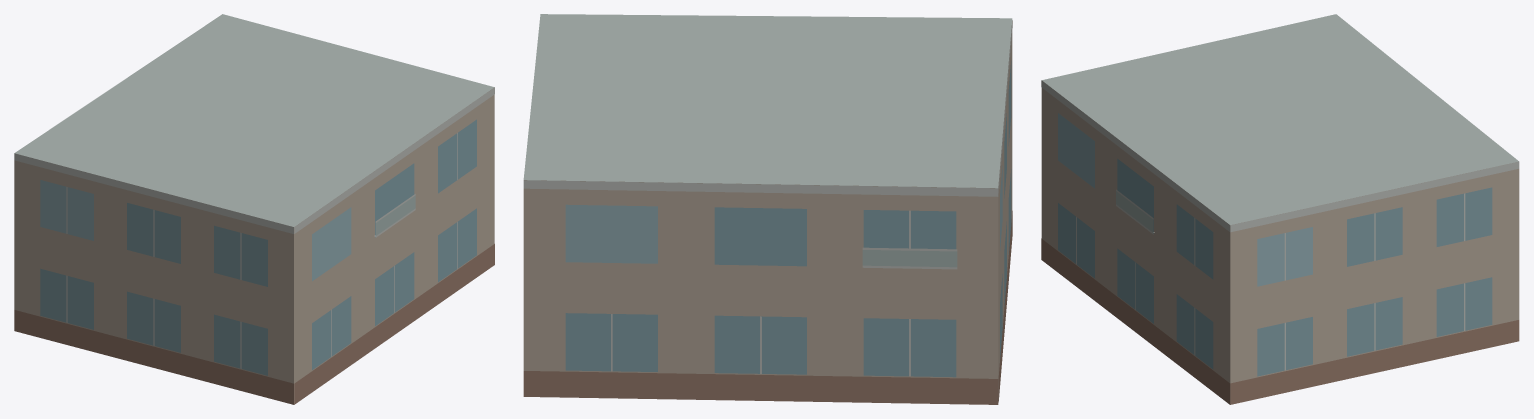
Rendered from survey-upis-32687559.glb.
3 renders of one model, left to right at view 1: azimuth 30°, elevation 25°; view 2: azimuth 150°, elevation 25°; view 3: azimuth 270°, elevation 25°, orthographic. The views are drawn at different scales.
Visible parts, largest first — view 1: survey-upis-32687559.tmp; view 2: survey-upis-32687559.tmp; view 3: survey-upis-32687559.tmp.
Part boxes in pixels (x1,y1,x2,y2): survey-upis-32687559.tmp: (14,14,494,404); survey-upis-32687559.tmp: (523,14,1012,404); survey-upis-32687559.tmp: (1041,14,1519,404).
Bounding box in the file's own units: 15.38 × 6.1 × 14.71.
